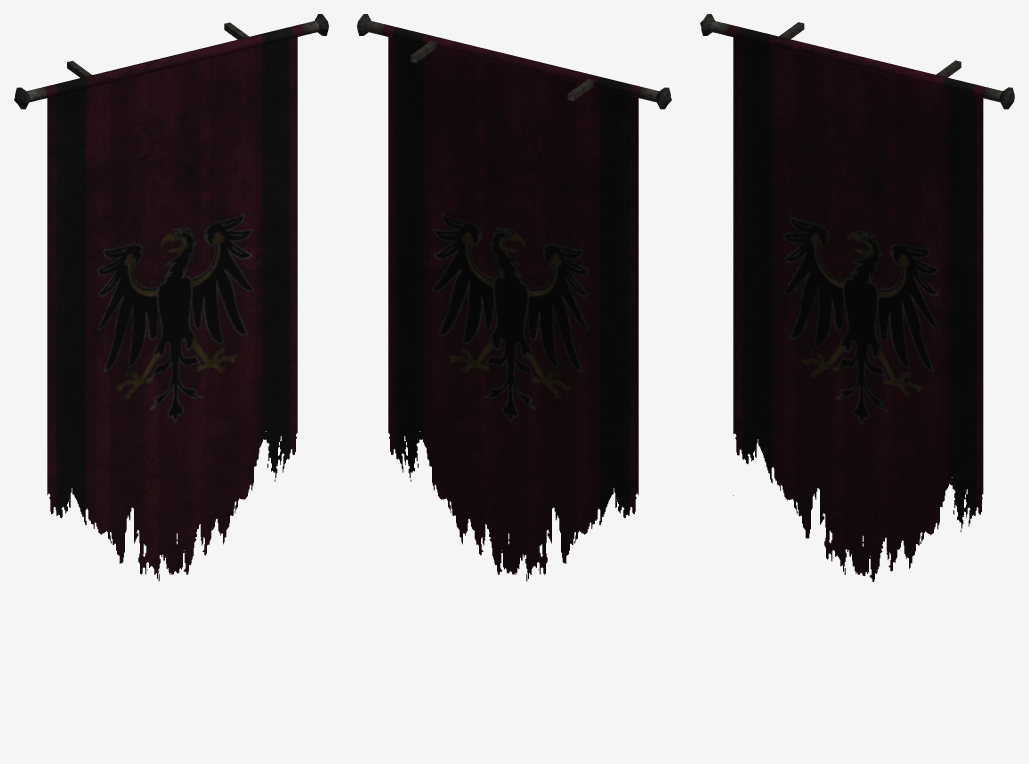
The model's file is banner_long02_broken.dae.
3 renders of one model, left to right at view 1: azimuth 30°, elevation 25°; view 2: azimuth 150°, elevation 25°; view 3: azimuth 330°, elevation 25°, orthographic.
Parts seen in each view (by area): view 1: polySurface19, polySurface24, polySurface20; view 2: polySurface19, polySurface24, polySurface20; view 3: polySurface19, polySurface24, polySurface20.
Boxes of the visible parts, x1,y1,x2,y2 form: polySurface19: (47, 37, 297, 581); polySurface24: (47, 40, 297, 576); polySurface20: (14, 14, 328, 109); polySurface19: (388, 37, 638, 580); polySurface24: (388, 38, 638, 578); polySurface20: (357, 14, 671, 109); polySurface19: (733, 37, 983, 581); polySurface24: (733, 38, 983, 578); polySurface20: (700, 14, 1014, 109).
Size of the model in its own units: 2 by 4.07 by 0.3168.
